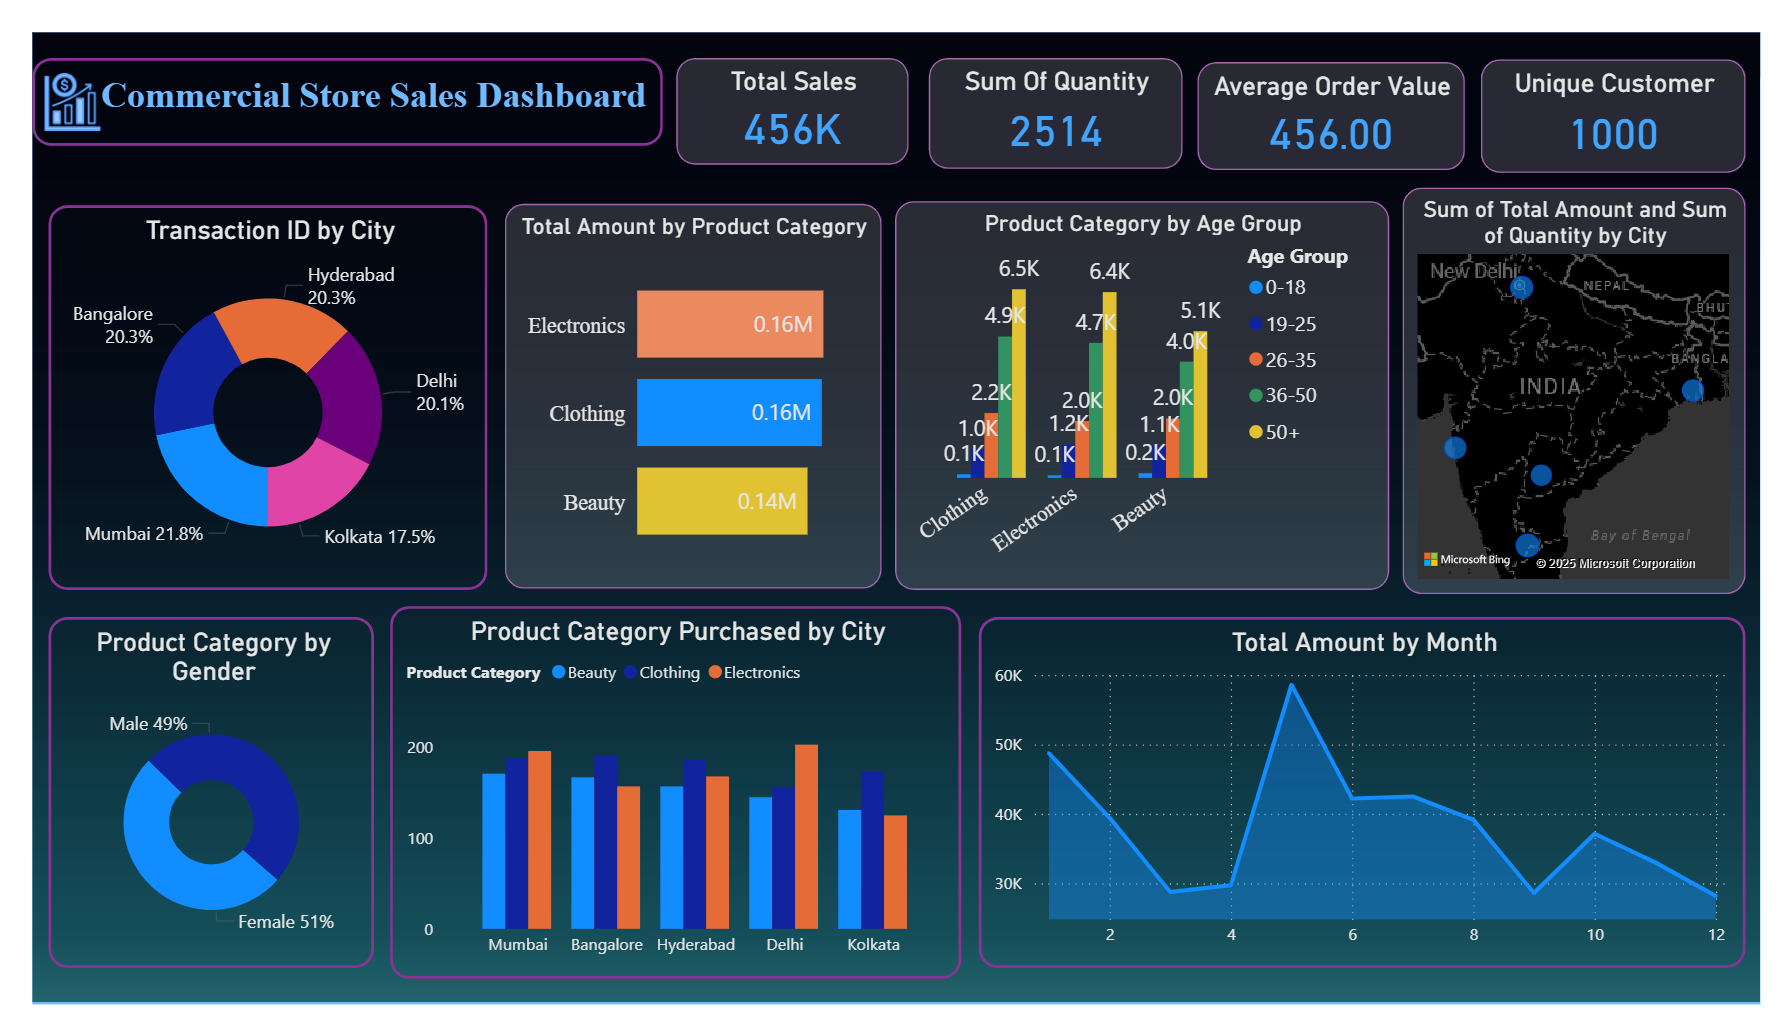

The page's visual inventory and layout, read from the dashboard file:
{"tool":"powerbi","page":{"name":"Dashboard","canvas":[1280,720],"ordinal":0},"visuals":[{"type":"clusteredBarChart","title":"Total Amount by Product Category","fields":{"Category":["final_sales.Product Category"],"Y":["Sum(final_sales.Total Amount)"]},"box":[349.9,126.7,279.4,285.1],"z":0},{"type":"clusteredColumnChart","title":"Product Category by Age Group","fields":{"Category":["final_sales.Product Category"],"Y":["Sum(final_sales.Age)"],"Series":["final_sales.Age Group"]},"box":[639.4,125.3,365.8,288],"z":1000},{"type":"stackedAreaChart","title":"Total Amount by Month","fields":{"Category":["final_sales.Month"],"Y":["Sum(final_sales.Total Amount)"]},"box":[701.3,433.4,567.4,259.2],"z":2000},{"type":"map","title":"Sum of Total Amount and Sum of Quantity by City","fields":{"Category":["final_sales.City"],"Size":["Sum(final_sales.Total Amount)"],"Y":["Avg(final_sales.Latitude)"],"X":["Avg(final_sales.Longitude)"]},"box":[1015.2,115.2,253.4,301],"z":3000},{"type":"donutChart","title":"Product Category by Gender","fields":{"Category":["final_sales.Gender"],"Y":["CountNonNull(final_sales.Product Category)"]},"box":[11.5,433.4,241.9,259.2],"z":4000},{"type":"donutChart","title":"Transaction ID by City","fields":{"Category":["final_sales.City"],"Y":["CountNonNull(final_sales.Transaction ID)"]},"box":[11.5,128.2,325.4,285.1],"z":5000},{"type":"clusteredColumnChart","title":"Product Category Purchased by City","fields":{"Series":["final_sales.Product Category"],"Category":["final_sales.City"],"Y":["Sum(final_sales.Quantity)"]},"box":[265,424.8,423.4,276.5],"z":6000},{"type":"textbox","box":[0,18.7,466.6,64.8],"z":7000},{"type":"image","box":[0,24.5,57.6,54.7],"z":8000},{"type":"card","title":"Total Sales","fields":{"Values":["Sum(final_sales.Total Amount)"]},"box":[476.6,18.7,172.8,79.2],"z":9000},{"type":"card","title":"Sum Of Quantity","fields":{"Values":["Sum(final_sales.Quantity)"]},"box":[663.8,18.7,188.6,82.1],"z":10000},{"type":"card","title":"Average Order Value","fields":{"Values":["final_sales.Average Order Value"]},"box":[862.6,21.6,198.7,80.6],"z":11000},{"type":"card","title":"Unique Customer","fields":{"Values":["Count(final_sales.Customer ID)"]},"box":[1072.8,20.2,195.8,83.5],"z":12000}]}

Visuals, with their boxes in screenshot pixels (x1, y1, x2, y2), scaled from the page's 1280x720 canvas onto the 1792x1036 screenshot:
"Total Amount by Product Category" clusteredBarChart: x1=490 y1=182 x2=881 y2=593
"Product Category by Age Group" clusteredColumnChart: x1=895 y1=180 x2=1407 y2=595
"Total Amount by Month" stackedAreaChart: x1=982 y1=624 x2=1776 y2=997
"Sum of Total Amount and Sum of Quantity by City" map: x1=1421 y1=166 x2=1776 y2=599
"Product Category by Gender" donutChart: x1=16 y1=624 x2=355 y2=997
"Transaction ID by City" donutChart: x1=16 y1=184 x2=472 y2=595
"Product Category Purchased by City" clusteredColumnChart: x1=371 y1=611 x2=964 y2=1009
textbox: x1=0 y1=27 x2=653 y2=120
image: x1=0 y1=35 x2=81 y2=114
"Total Sales" card: x1=667 y1=27 x2=909 y2=141
"Sum Of Quantity" card: x1=929 y1=27 x2=1193 y2=145
"Average Order Value" card: x1=1208 y1=31 x2=1486 y2=147
"Unique Customer" card: x1=1502 y1=29 x2=1776 y2=149
